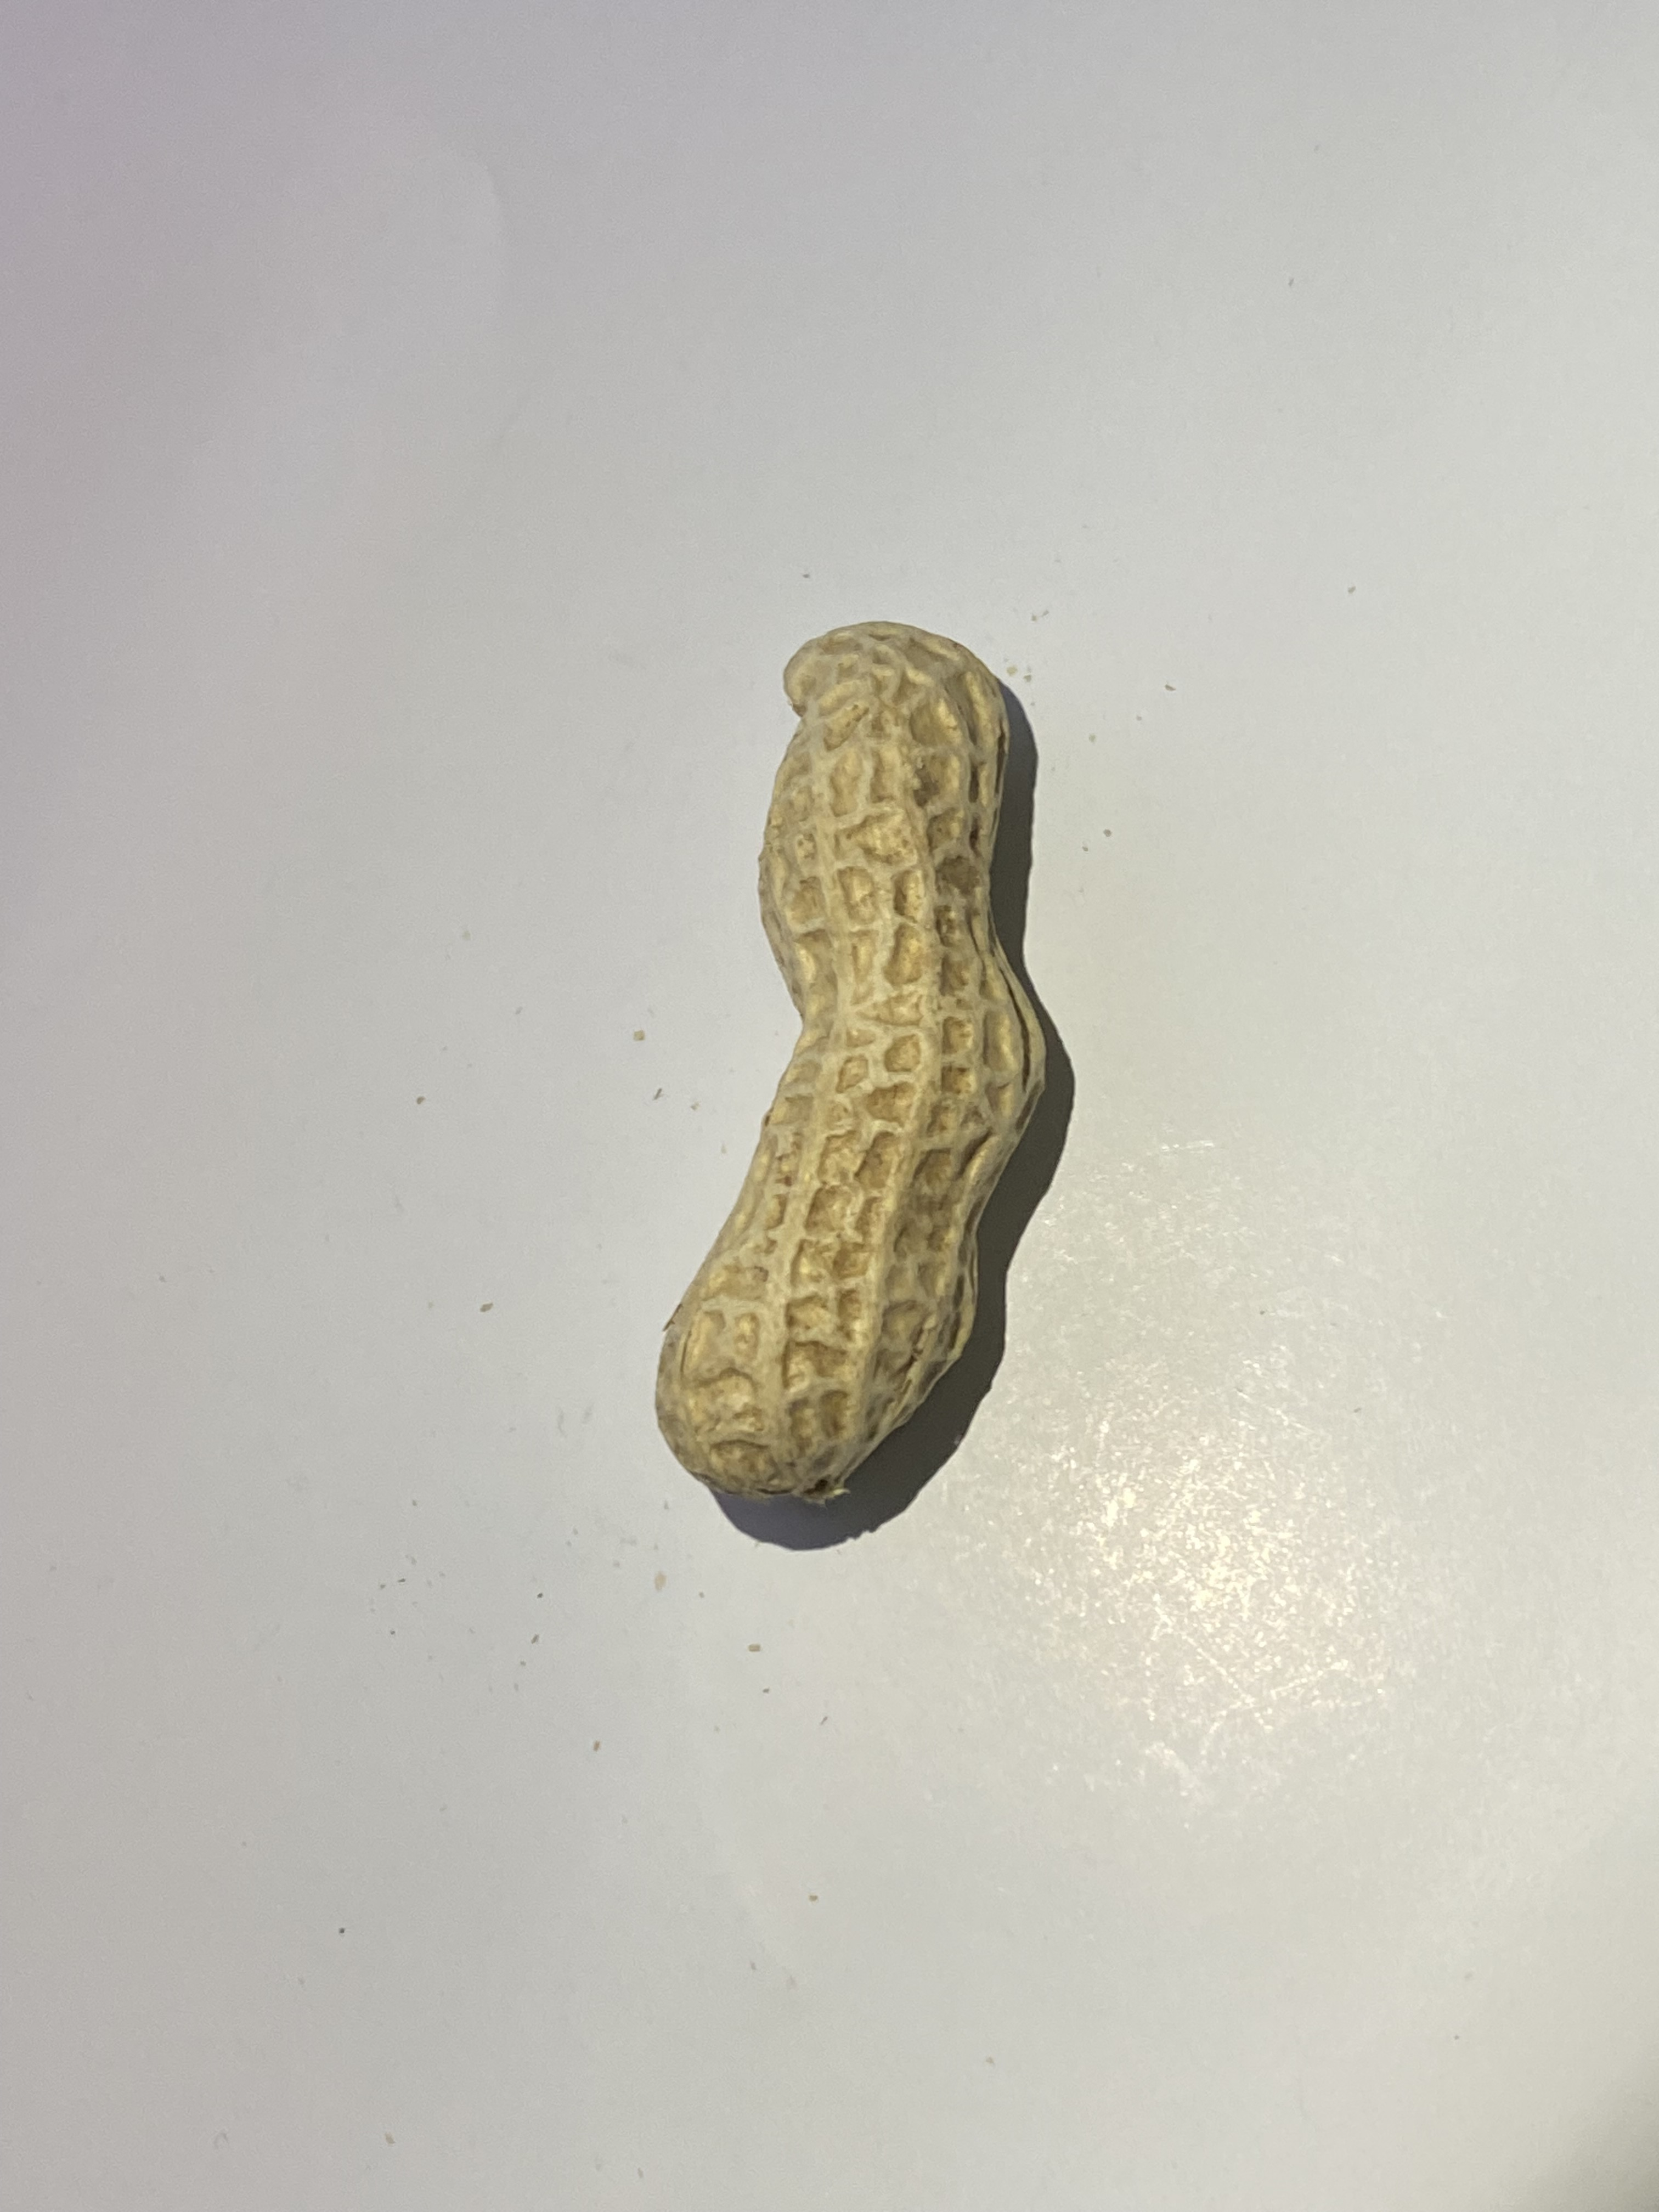kacang3: (638, 596, 1063, 1545)
